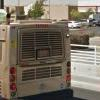Bus: (3, 17, 77, 100)
